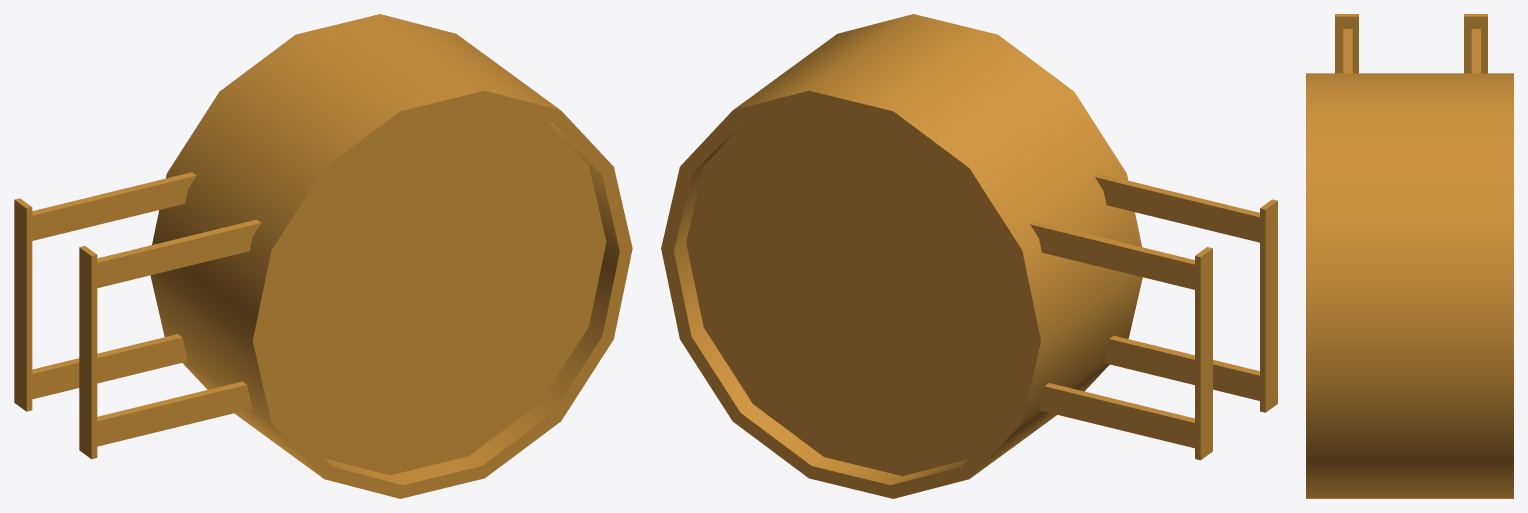
Rendered from SM_sign_japan_05.fbx.
The picture shows the model from 3 angles, left to right: view 1: azimuth 30°, elevation 25°; view 2: azimuth 150°, elevation 25°; view 3: azimuth 270°, elevation 25°; orthographic projection.
Visible parts, largest first — view 1: Object004; view 2: Object004; view 3: Object004.
Part boxes in pixels (x1,y1,x2,y2): Object004: (14, 14, 632, 498); Object004: (661, 14, 1277, 498); Object004: (1306, 14, 1513, 498).
Bounding box in the file's own units: 48.12 × 16.58 × 33.85.
